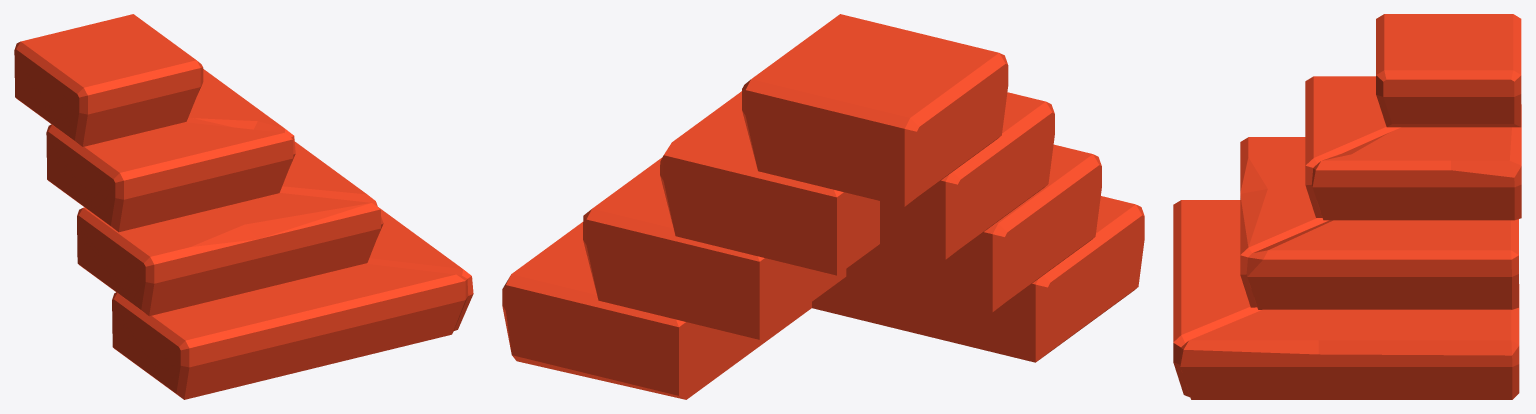
Rendered from SM_Stairs_Corner_Outer_Short_City.fbx.
3 views of the same model, side by side, from view 1: azimuth 30°, elevation 25°; view 2: azimuth 150°, elevation 25°; view 3: azimuth 270°, elevation 25° (orthographic). The views are drawn at different scales.
Visible parts, largest first — view 1: SM_Stairs_Corner_Outer_Short_City; view 2: SM_Stairs_Corner_Outer_Short_City; view 3: SM_Stairs_Corner_Outer_Short_City.
Part boxes in pixels (x1=…): SM_Stairs_Corner_Outer_Short_City: x1=14, y1=14, x2=473, y2=399; SM_Stairs_Corner_Outer_Short_City: x1=502, y1=14, x2=1144, y2=399; SM_Stairs_Corner_Outer_Short_City: x1=1173, y1=14, x2=1521, y2=399.
Bounding box in the file's own units: 1.28 × 1 × 1.28.
